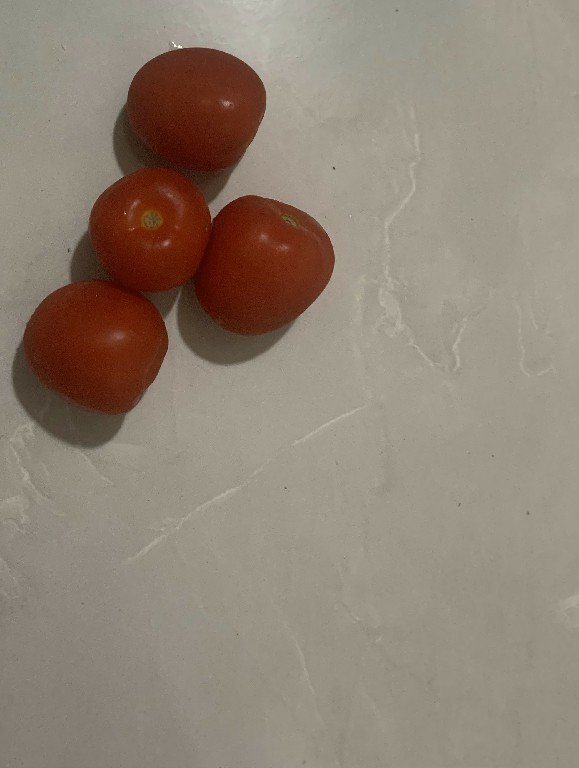OK: (24, 281, 172, 419), (124, 44, 271, 176), (202, 196, 334, 335), (91, 168, 213, 286)
